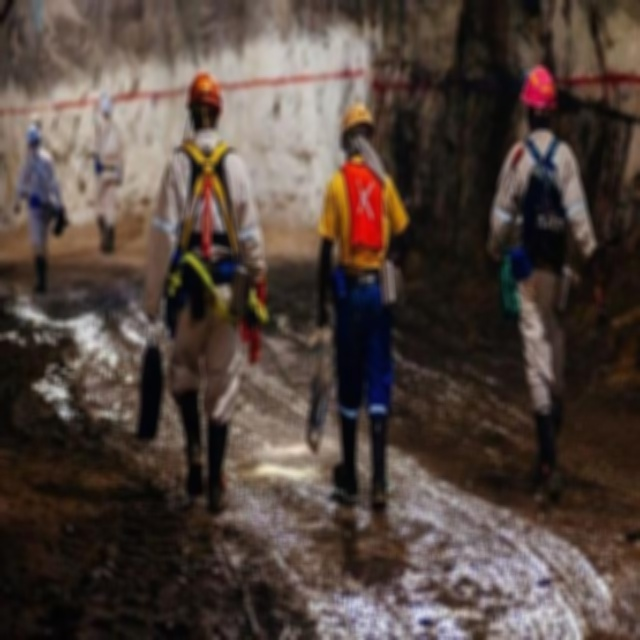Con_Casco: (514, 66, 560, 132), (186, 69, 223, 131), (335, 102, 373, 158)
